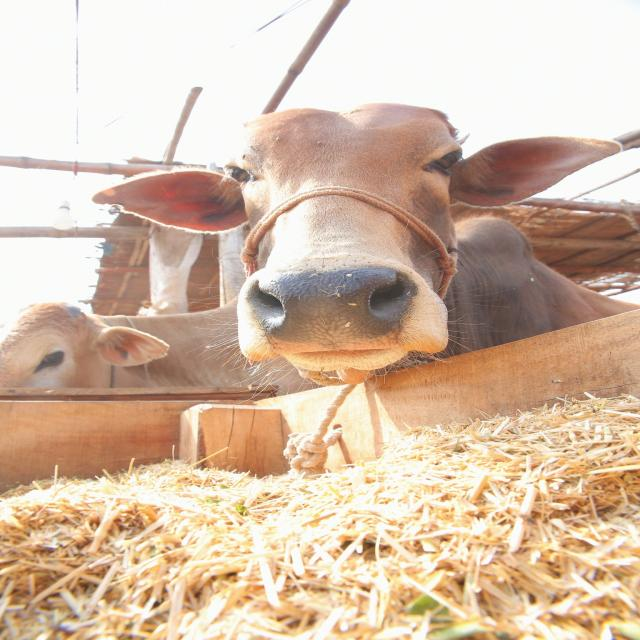muzzles: (230, 262, 430, 364)
